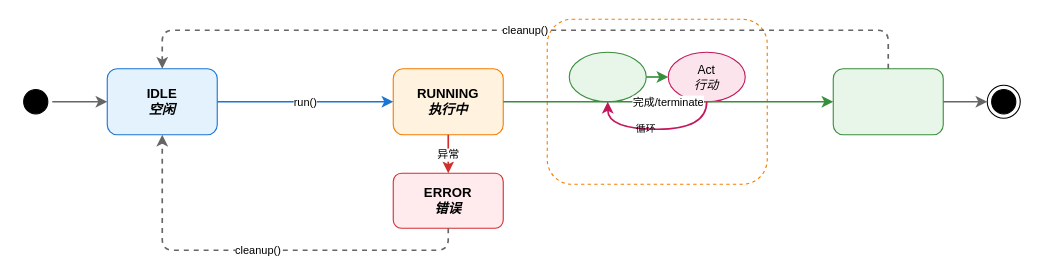
The diagram is 1040 pixels wide and 279 high, and some of its shapes have lost their labels. The box of each missing label's shape, as (x1, y1, x2, y2) in pixels:
FINISHED 已完成: (832, 68, 943, 135)
Think 思考: (568, 51, 646, 102)
